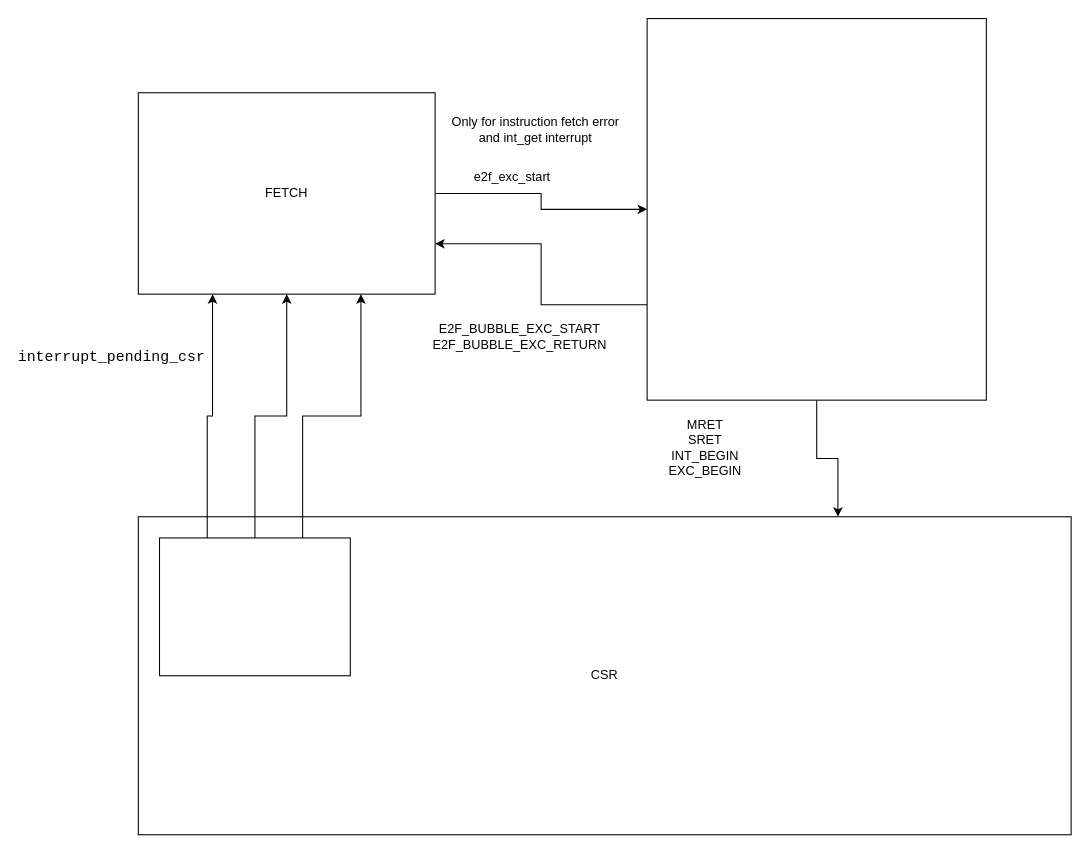
The diagram is 1090 pixels wide and 853 high, and some of its shapes have lost their labels. Each missing label, with the centre of its shape:
"EXECUTE" goes at pixel 816 208.
"INTERRUPT_GEN" goes at pixel 254 606.
